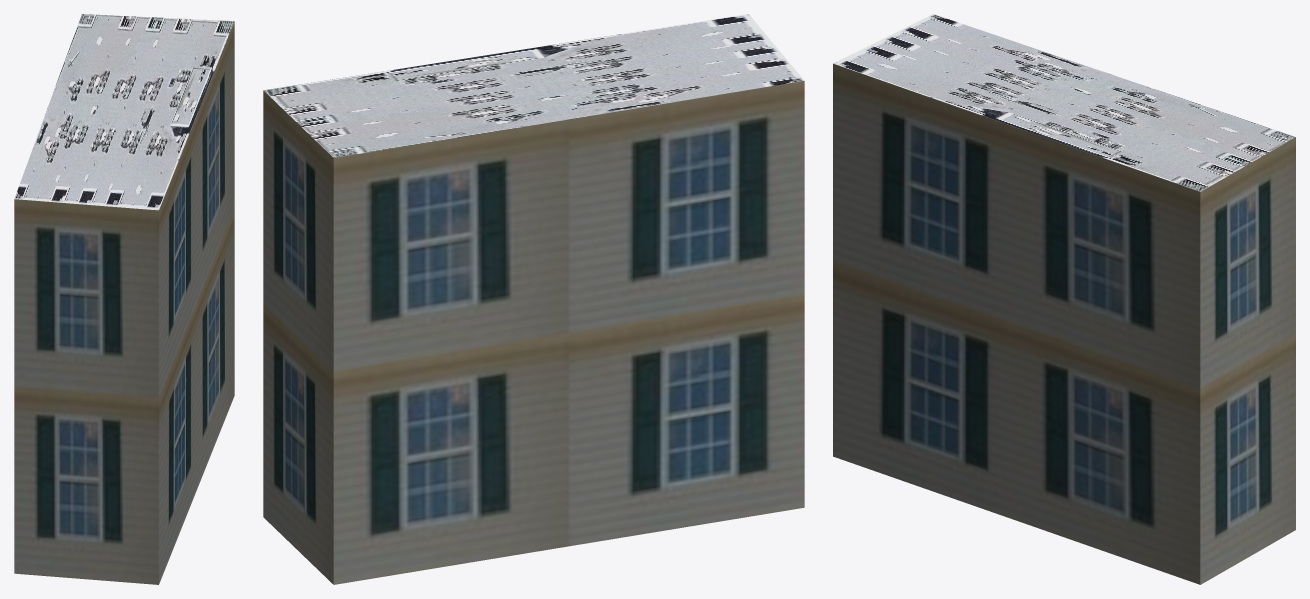
Rendered from ResTex__587.fbx.
3 views of the same model, side by side, from view 1: azimuth 30°, elevation 25°; view 2: azimuth 150°, elevation 25°; view 3: azimuth 270°, elevation 25° (orthographic). The views are drawn at different scales.
Parts seen in each view (by area): view 1: CityEngineMaterial_7_m, CityEngineMaterial_4_m; view 2: CityEngineMaterial_7_m, CityEngineMaterial_4_m; view 3: CityEngineMaterial_7_m, CityEngineMaterial_4_m.
Boxes of the visible parts, left/top/right/bottom form: CityEngineMaterial_7_m: left=14, top=22, right=234, bottom=584; CityEngineMaterial_4_m: left=14, top=14, right=234, bottom=210; CityEngineMaterial_7_m: left=263, top=81, right=804, bottom=584; CityEngineMaterial_4_m: left=264, top=14, right=804, bottom=157; CityEngineMaterial_7_m: left=833, top=63, right=1295, bottom=584; CityEngineMaterial_4_m: left=833, top=14, right=1295, bottom=191.
Size of the model in its own units: 5.83 by 6 by 6.4.
2 materials, 2 textured.
